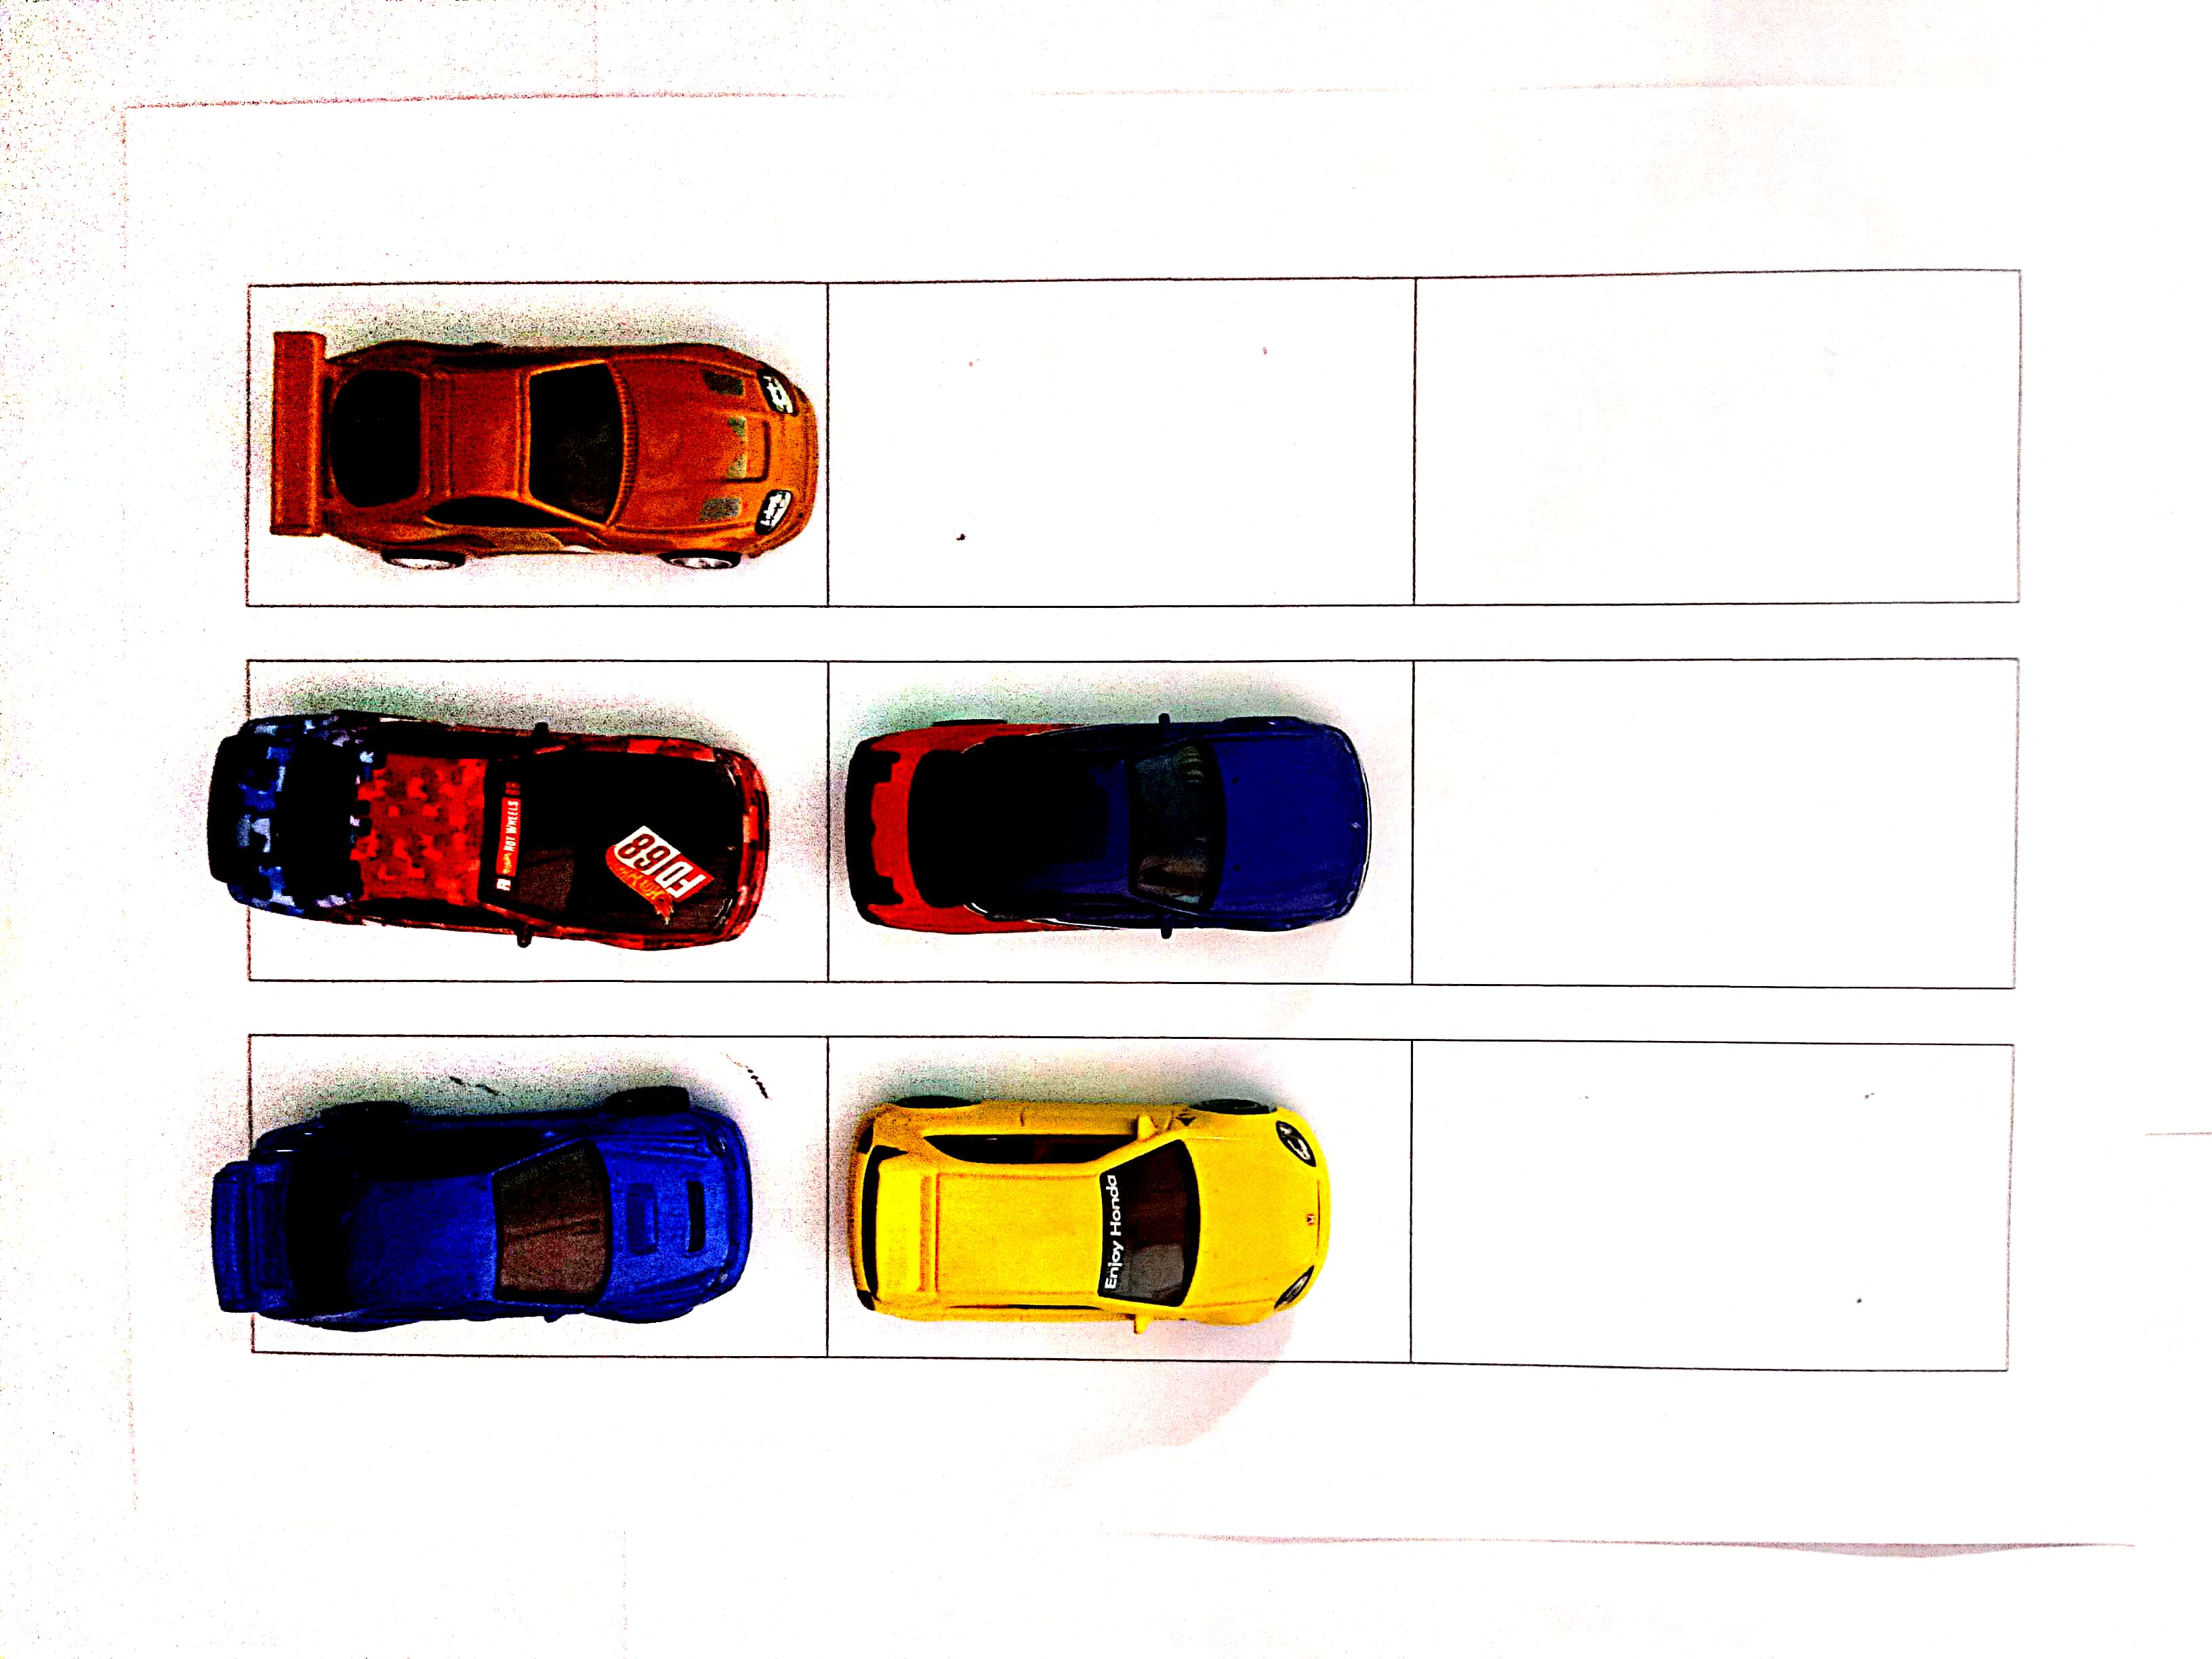Busy: (829, 655, 1413, 981), (249, 655, 829, 981), (827, 1044, 1407, 1363), (249, 1039, 827, 1356), (247, 289, 824, 605)
Free: (1418, 263, 2013, 601), (1413, 1040, 2012, 1366), (829, 279, 1414, 605), (1414, 664, 2012, 979)
